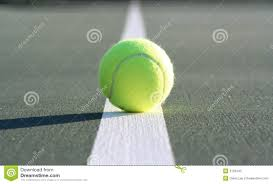tennis_ball: (100, 38, 174, 113)
